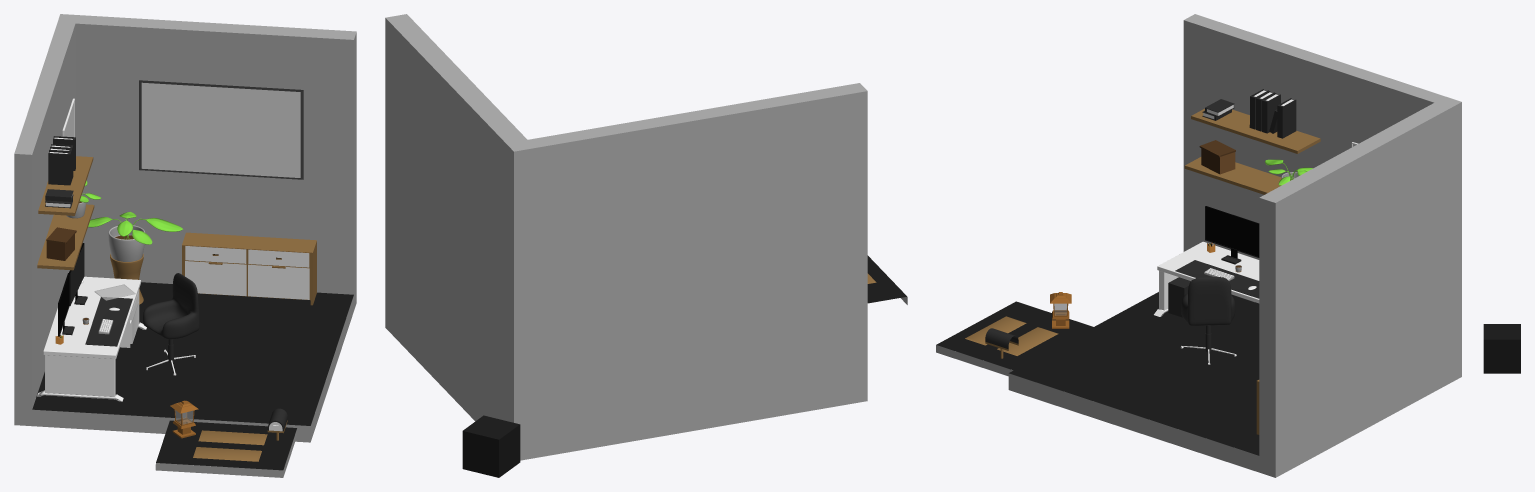
File: originchanged.glb
3 views of the same model, side by side, from view 1: azimuth 30°, elevation 25°; view 2: azimuth 150°, elevation 25°; view 3: azimuth 270°, elevation 25° (orthographic). The views are drawn at different scales.
Visible parts, largest first — view 1: body, Board, Desks, Shelves, Minifloor, Deskobj, Chair, Computers, floorsec, floorfirst, floor items, floorLamp (+1 smaller); view 2: body, Cube, Minifloor; view 3: body, Shelves, Minifloor, Desks, Chair, Computers, Cube, Deskobj, floor items, floorfirst, floorLamp, floorsec.
Boxes of the visible parts, <box> form: body: <box>14,14,356,442</box>; Board: <box>182,232,316,305</box>; Desks: <box>37,254,146,401</box>; Shelves: <box>37,136,101,270</box>; Minifloor: <box>155,420,297,477</box>; Deskobj: <box>55,212,182,346</box>; Chair: <box>143,273,199,339</box>; Computers: <box>58,243,87,336</box>; floorsec: <box>193,447,261,461</box>; floorfirst: <box>198,430,267,445</box>; floor items: <box>120,292,195,375</box>; floorLamp: <box>170,400,198,438</box>; body: <box>385,14,867,460</box>; Cube: <box>462,415,520,477</box>; Minifloor: <box>867,255,907,304</box>; body: <box>1008,14,1461,477</box>; Shelves: <box>1184,89,1320,194</box>; Minifloor: <box>936,301,1093,376</box>; Desks: <box>1154,241,1259,316</box>; Chair: <box>1181,277,1235,325</box>; Computers: <box>1205,206,1259,264</box>; Cube: <box>1483,324,1520,373</box>; Deskobj: <box>1175,242,1259,298</box>; floor items: <box>1168,277,1236,364</box>; floorfirst: <box>997,327,1058,355</box>; floorLamp: <box>1050,292,1071,328</box>; floorsec: <box>965,316,1026,345</box>.
Bounding box in the file's own units: 23.94 × 16.23 × 31.29.
